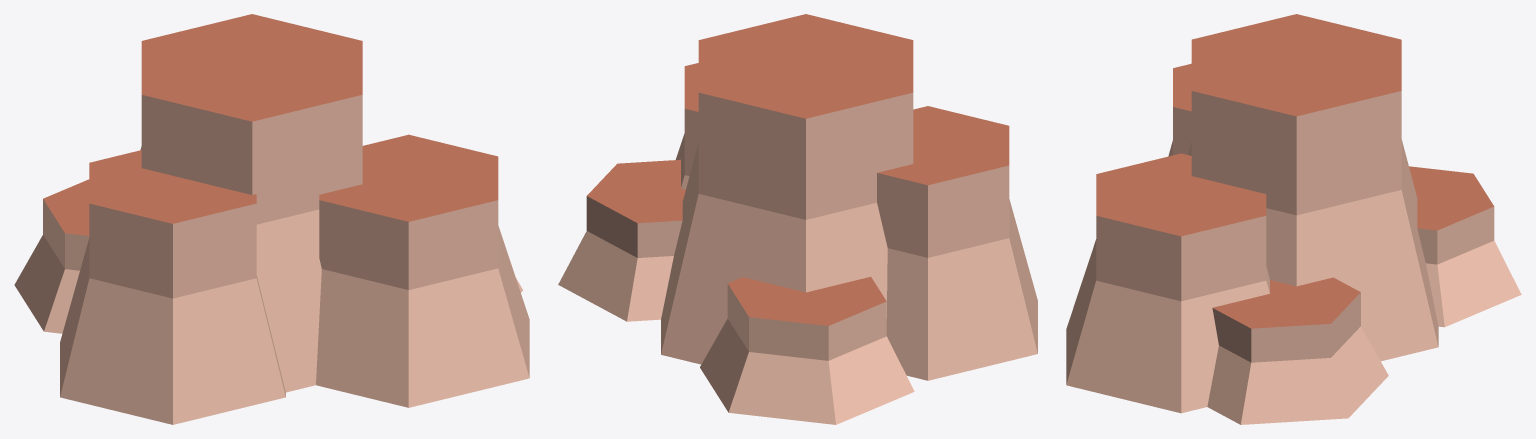
File: rock_largeA.glb
3 renders of one model, left to right at view 1: azimuth 30°, elevation 25°; view 2: azimuth 150°, elevation 25°; view 3: azimuth 270°, elevation 25°, orthographic. The views are drawn at different scales.
Visible parts, largest first — view 1: rock_largeA; view 2: rock_largeA; view 3: rock_largeA.
Part boxes in pixels (x1=…): rock_largeA: x1=14, y1=14, x2=529, y2=424; rock_largeA: x1=558, y1=14, x2=1037, y2=424; rock_largeA: x1=1066, y1=14, x2=1521, y2=424.
Size of the model in its own units: 1.29 by 0.702 by 1.17.
